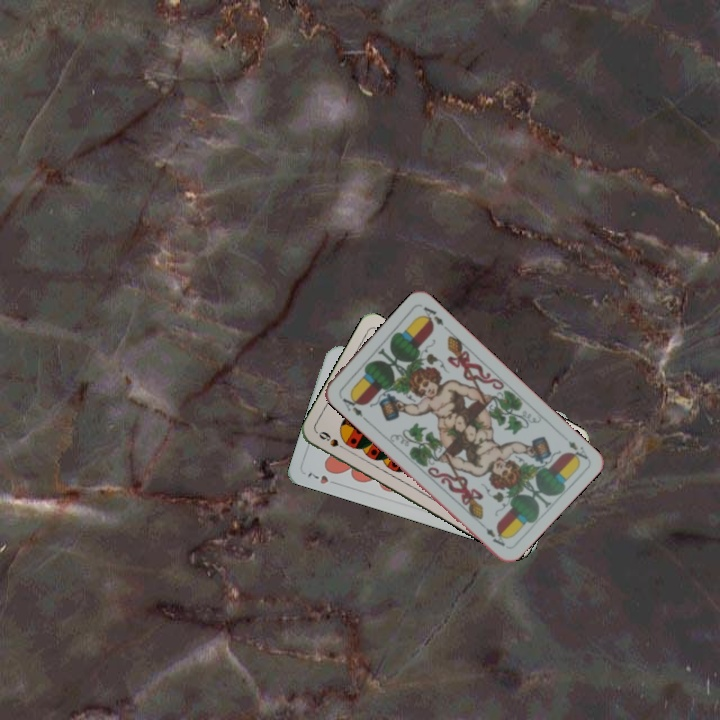EA: (338, 390, 369, 423), (564, 437, 591, 464)
H7: (303, 468, 342, 488)
S9: (314, 427, 352, 454)
